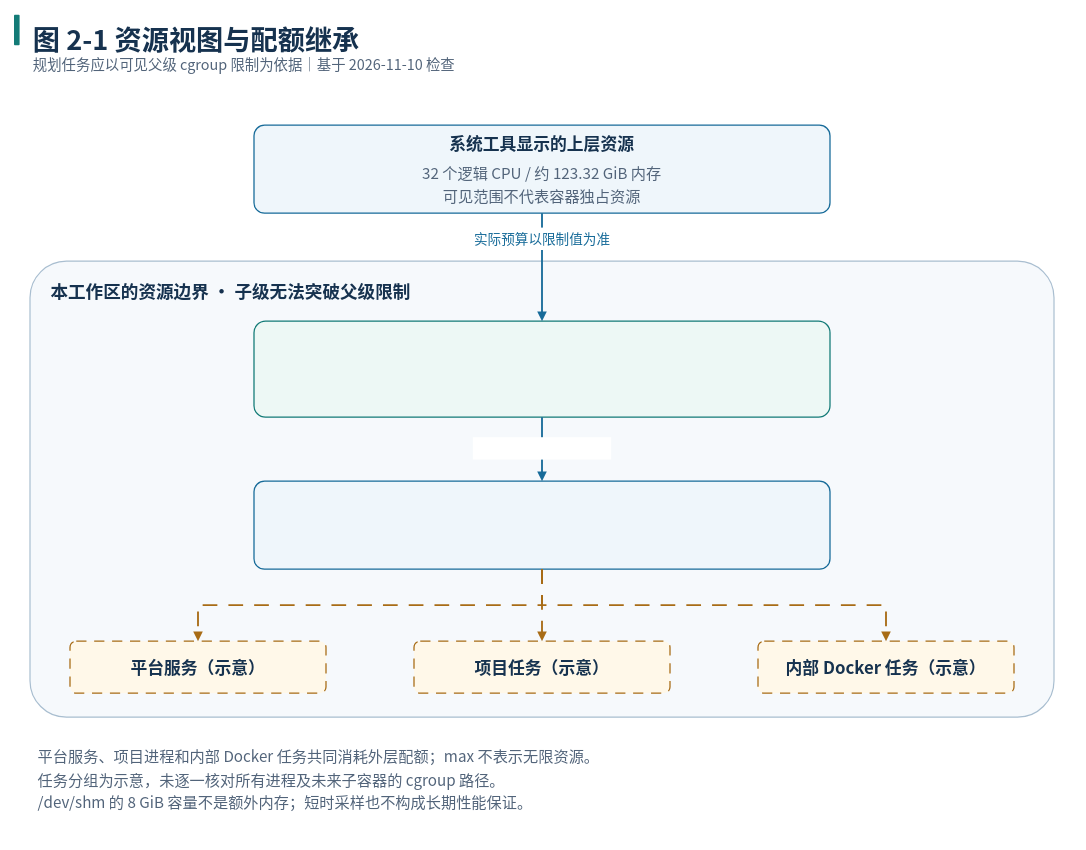
Image size: 1086x850. Some labels were removed from this diagram. Each missing label, with the centre of its shape:
"可见父级 cgroup CPU：400000 / 100000 ≈ 4 核算力配额 内存：8 GiB；进程 / 线程数：151533" goes at point 541,368.
"检查进程所在 init.scope CPU、内存、进程数限制显示 max 仍然继承父级上限" goes at point 541,524.
"限制沿层级向下生效" goes at point 541,448.
